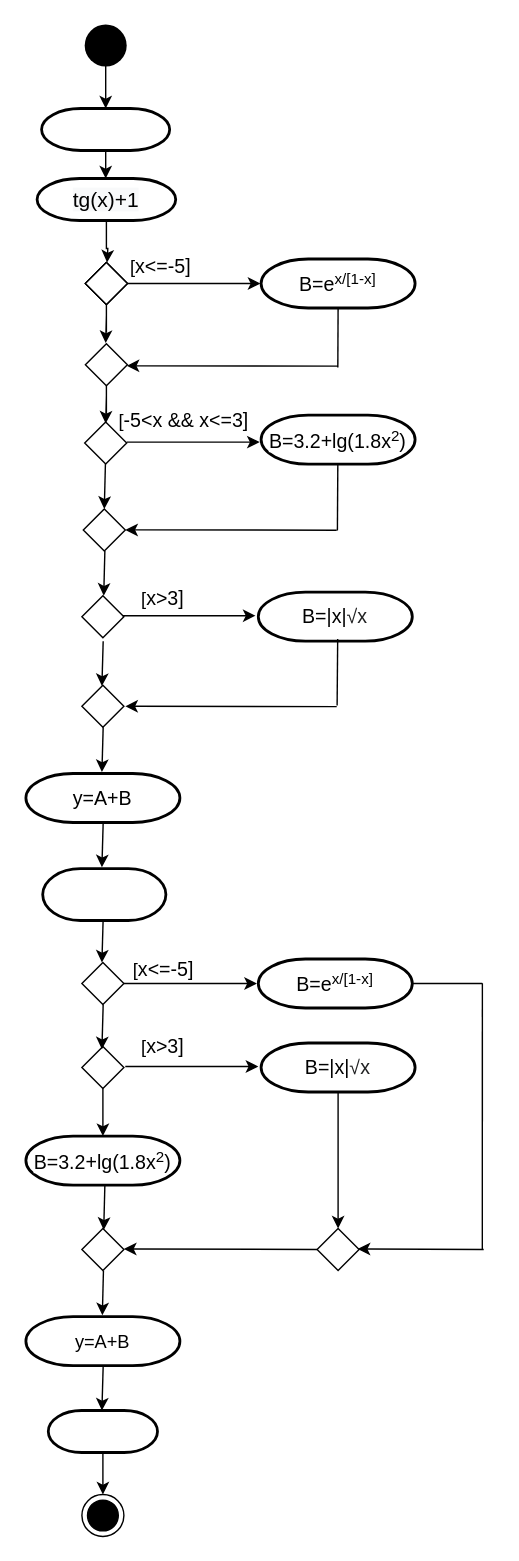
The diagram is 519 pixels wide and 1561 high, and some of its shapes have lost their labels. Each missing label, with the box of its shape:
ввід х: (39, 106, 170, 151)
вивід y: (41, 867, 167, 921)
вивід у: (46, 1408, 158, 1453)
